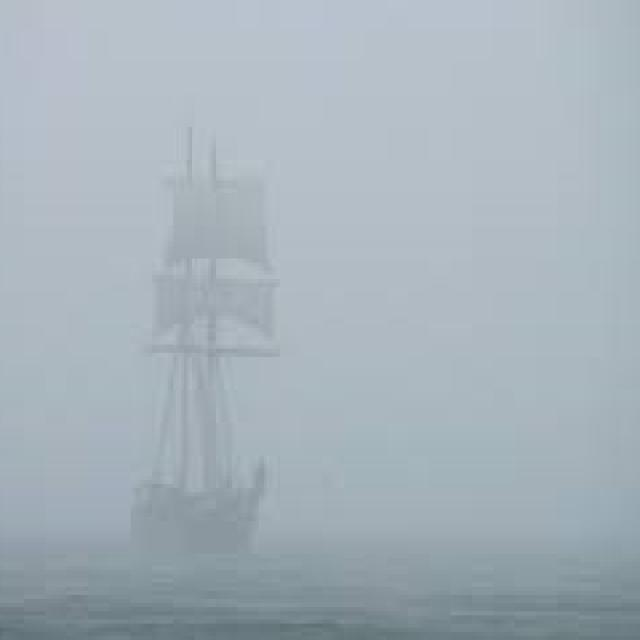fishing boat: (118, 120, 317, 561)
